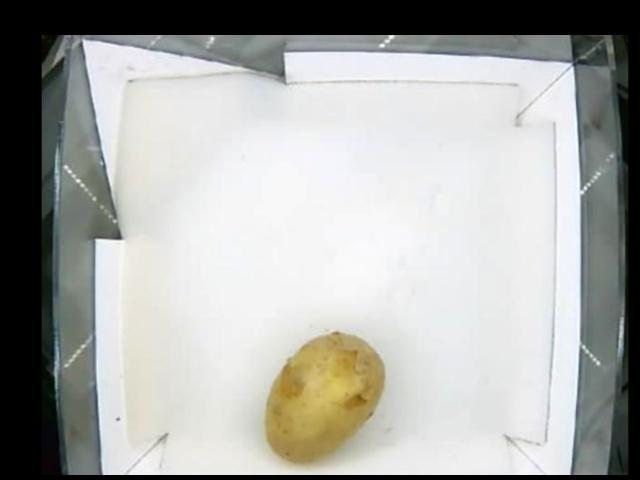Potato: (263, 331, 385, 464)
